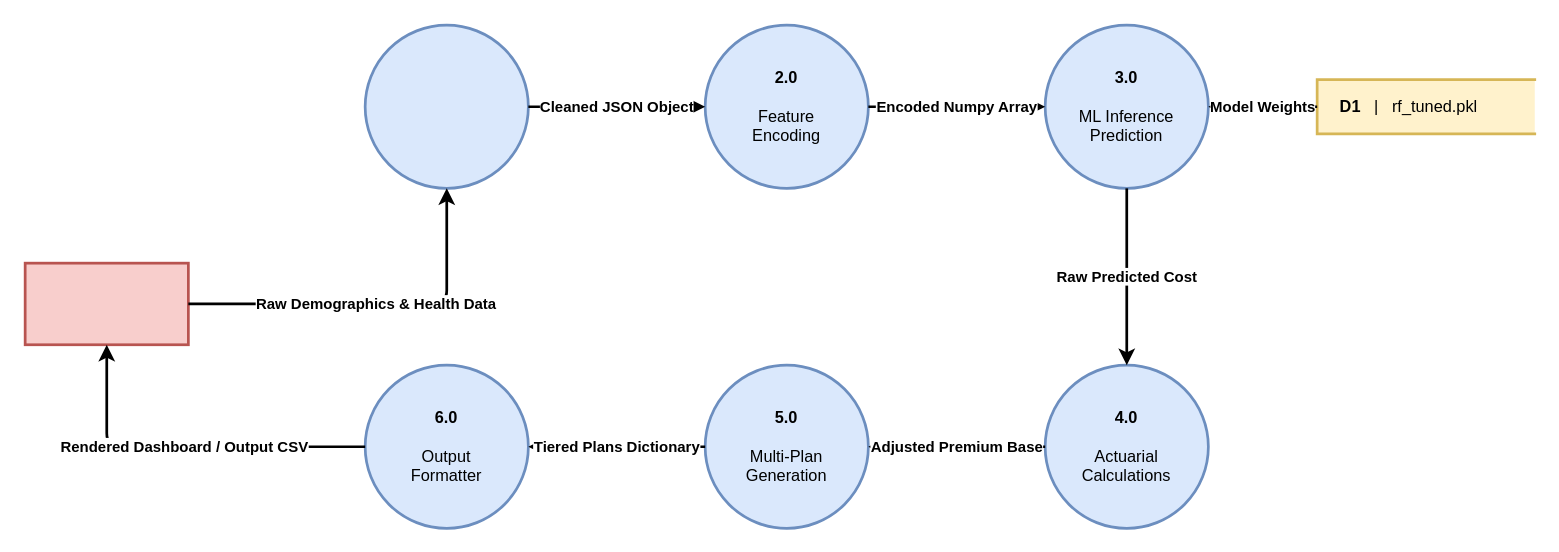
The diagram is 1559 pixels wide and 552 high, and some of its shapes have lost their labels. The shapes that lost their labels are listed below. From the top down, each one's centre as x and y in pixels, then its label:
[446,106]: 1.0 Input Validation & Sanitization
[106,303]: User / HR
